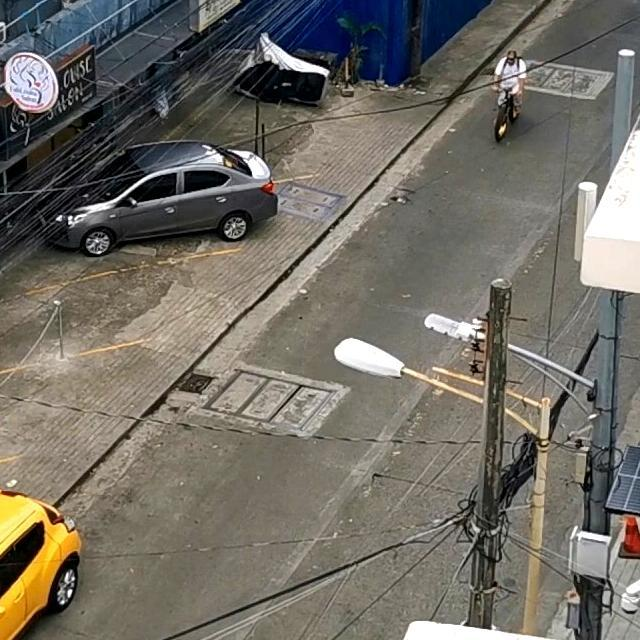Car: (30, 142, 262, 256), (0, 484, 80, 640)
